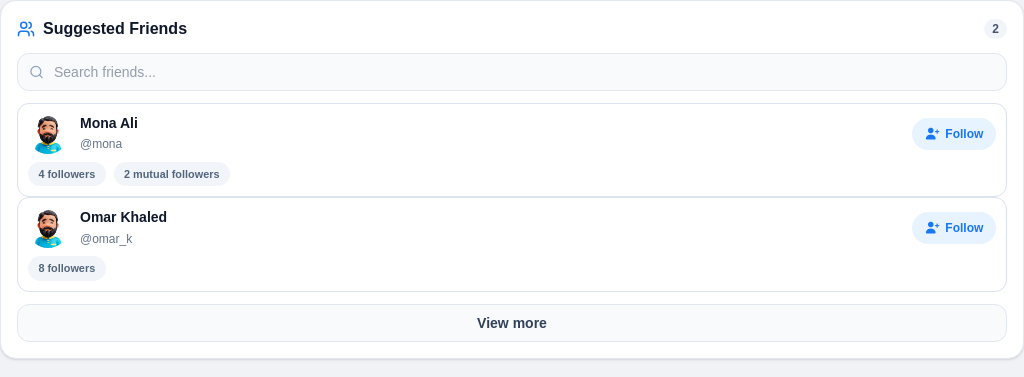
Test: SuggestedFriendsComponent › filters the compact list by name or username
The width and height of the screenshot is (1024, 377).
Type "omar" into the search field with placeholder "Search friends..." at [512, 72], box x1=17 y1=53 x2=1007 y2=91
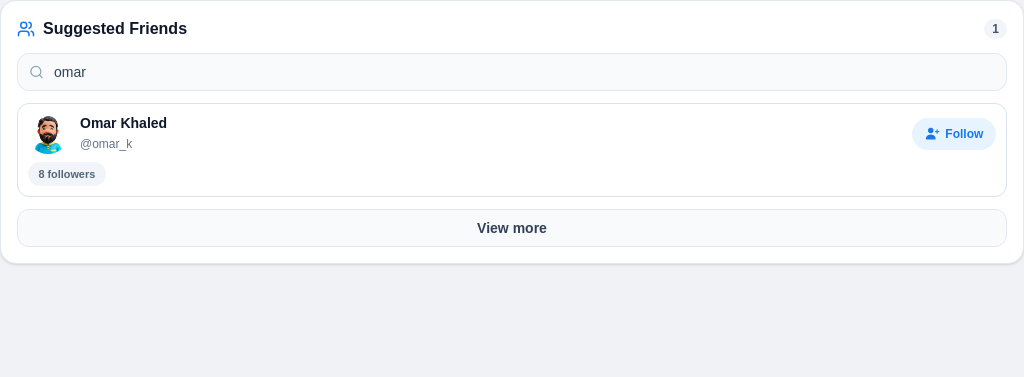
Expected: the text "Omar Khaled" is shown, x1=80 y1=115 x2=167 y2=131
Expected: the text "1" is shown, x1=984 y1=19 x2=1007 y2=39
